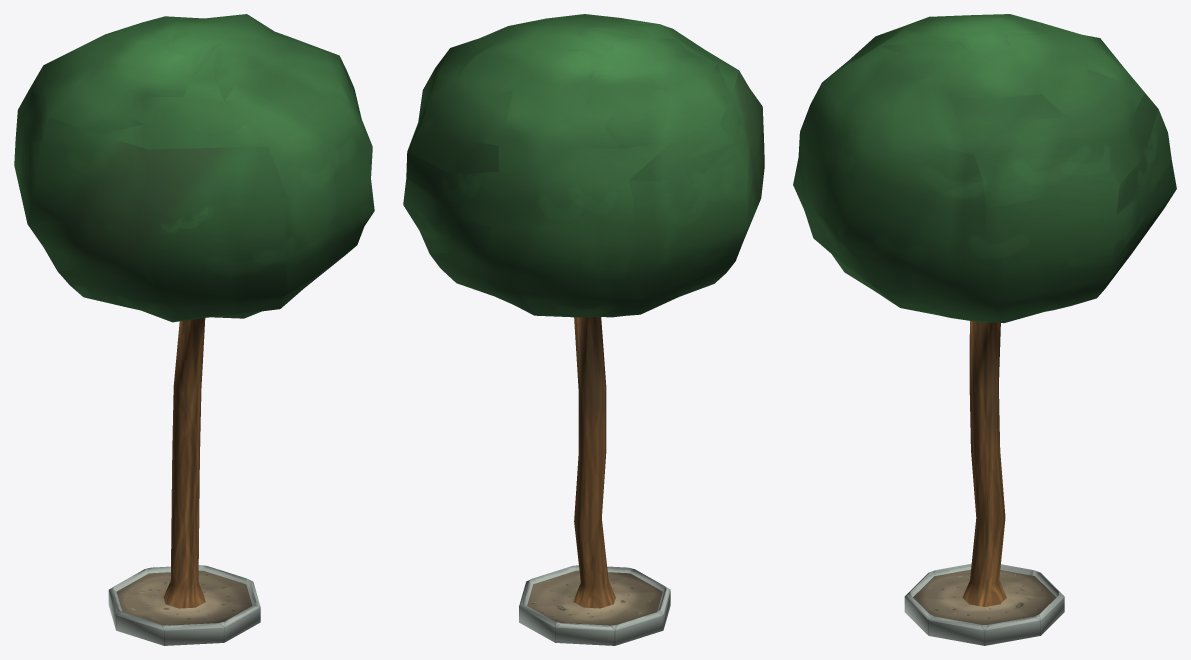
Rendered from Tree01.fbx.
3 views of the same model, side by side, from view 1: azimuth 30°, elevation 25°; view 2: azimuth 150°, elevation 25°; view 3: azimuth 270°, elevation 25° (orthographic).
Visible parts, largest first — view 1: Tree; view 2: Tree; view 3: Tree.
Part boxes in pixels (bbox=[...]): Tree: bbox=[14, 14, 374, 645]; Tree: bbox=[403, 14, 764, 645]; Tree: bbox=[793, 14, 1176, 645].
Bounding box in the file's own units: 392 × 657 × 396.
